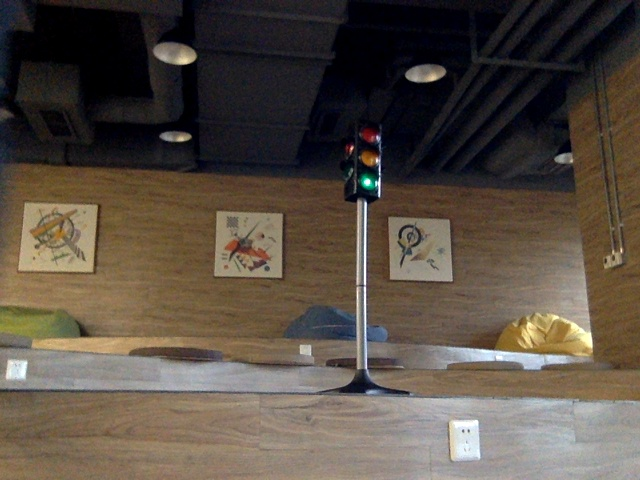green: (352, 126, 381, 193)
